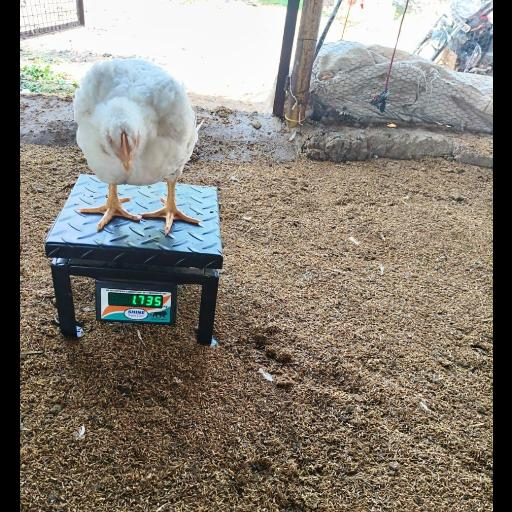chick: (73, 59, 200, 232)
